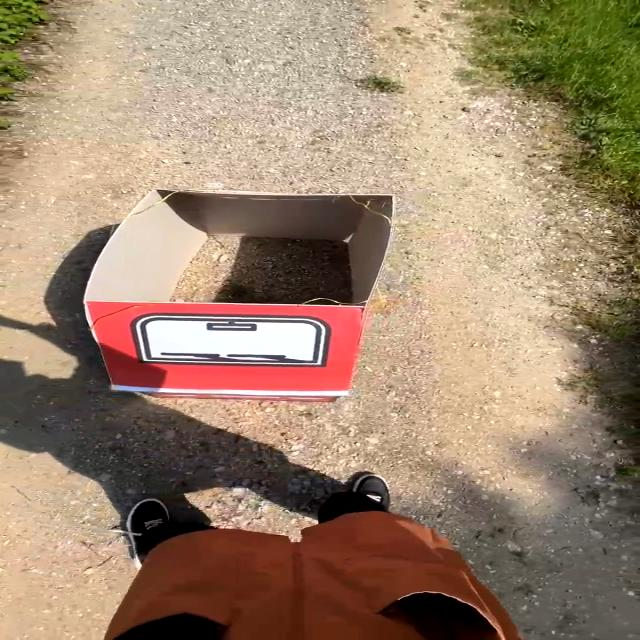red_car: (52, 147, 425, 442)
